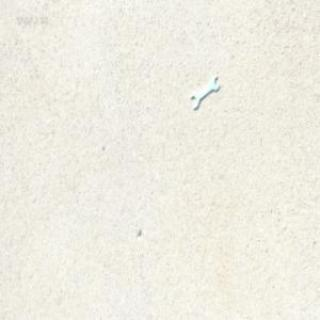Wrenchtrack_idkeyframe: (189, 74, 217, 108)
